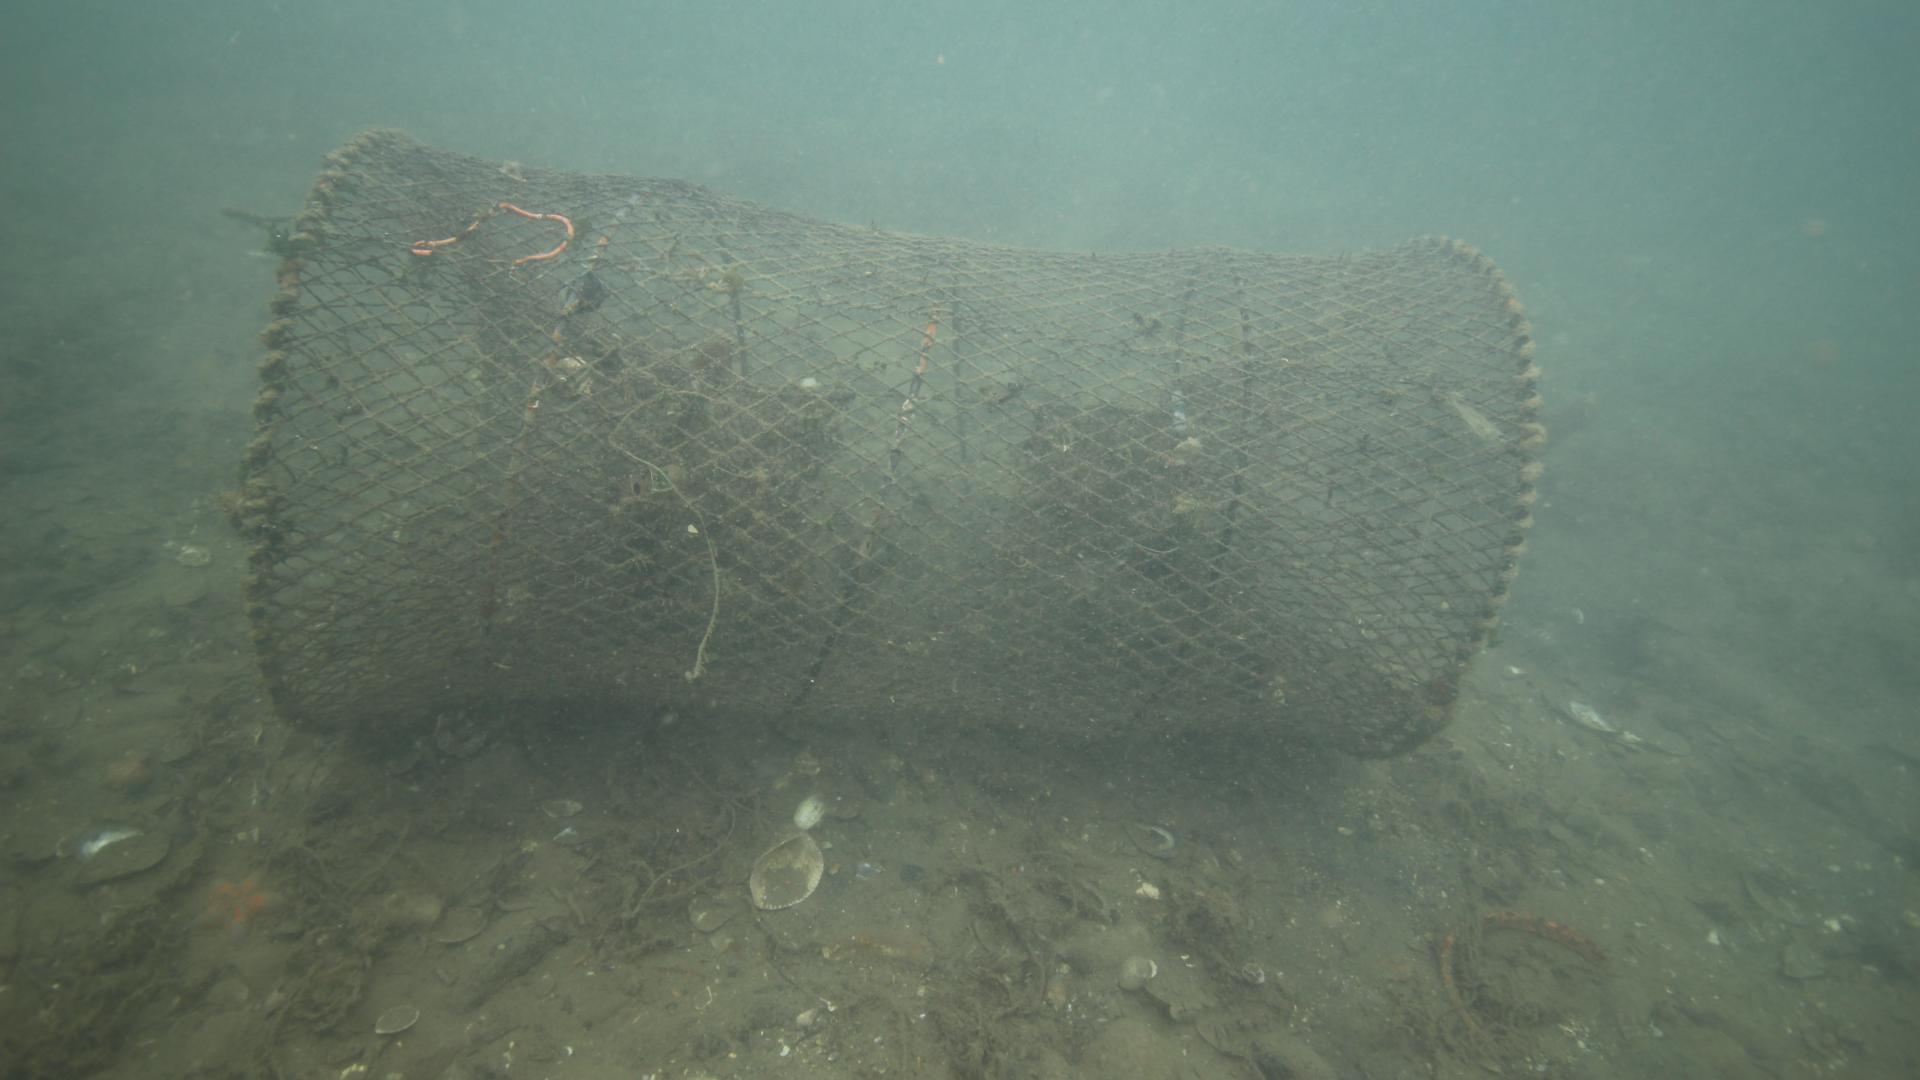spring fish trap: (240, 127, 1545, 760)
